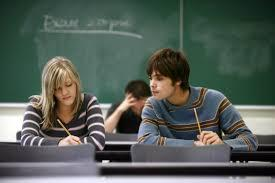student: (11, 47, 111, 157)
studentcopying: (127, 48, 266, 156)
